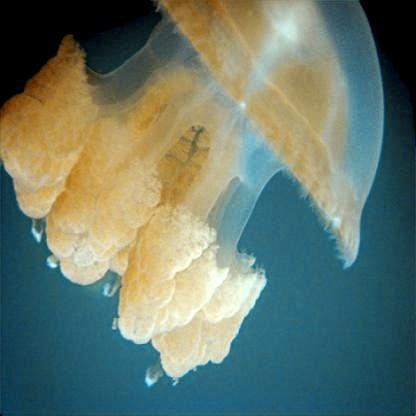Handstand: (6, 4, 386, 390)
